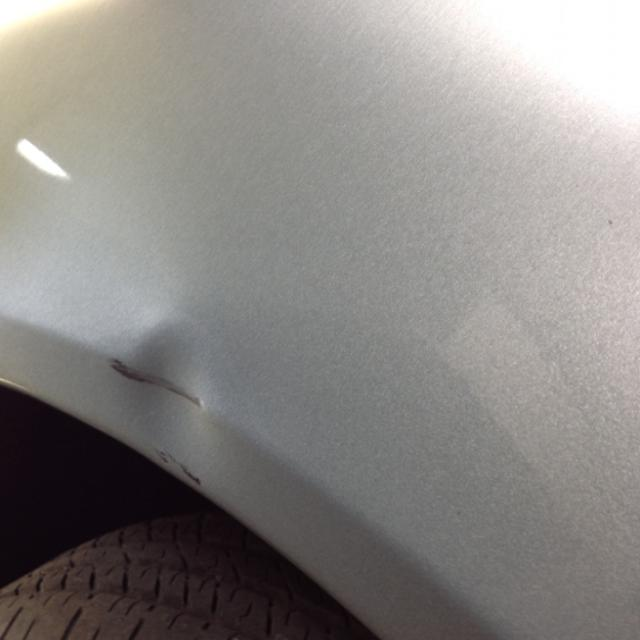dents: (96, 282, 309, 503)
